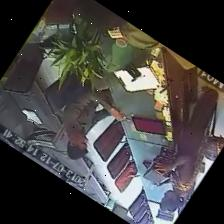person: (156, 86, 218, 211), (63, 78, 122, 159), (74, 0, 126, 30)
